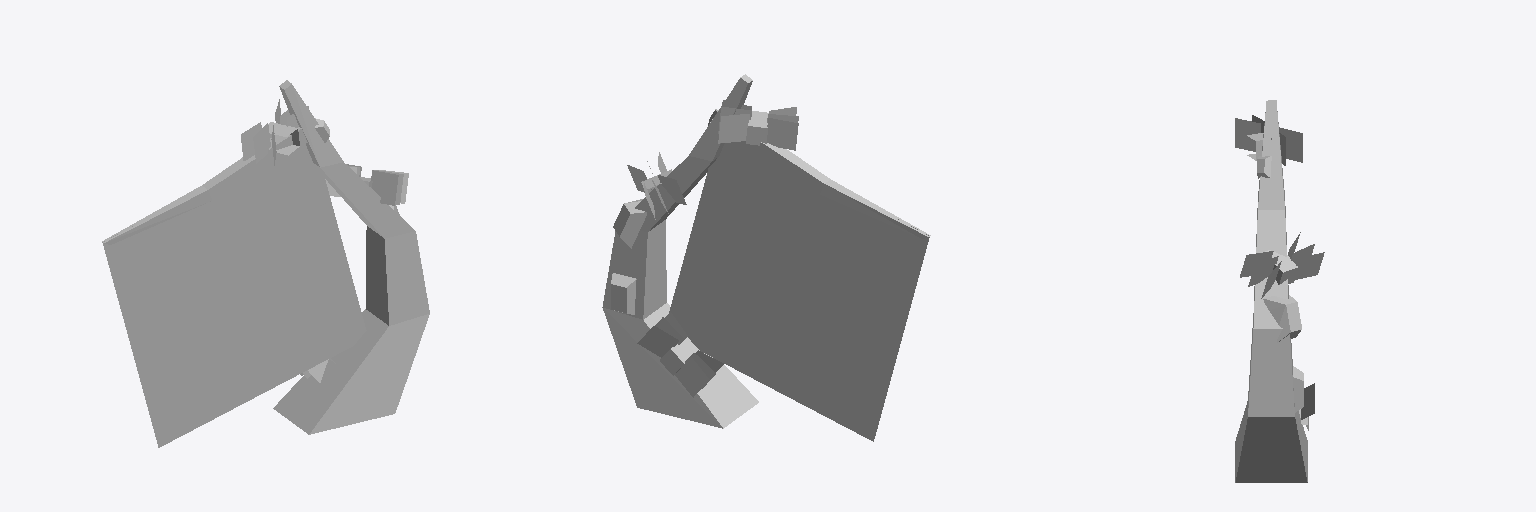
Rendered from ulej_001.obj.
The picture shows the model from 3 angles: view 1: azimuth 30°, elevation 25°; view 2: azimuth 150°, elevation 25°; view 3: azimuth 270°, elevation 25°; orthographic projection.
Visible parts, largest first — view 1: Улей.001; view 2: Улей.001; view 3: Улей.001.
Boxes of the visible parts, <box> form: Улей.001: <box>102,80,429,447</box>; Улей.001: <box>602,74,930,441</box>; Улей.001: <box>1235,100,1324,482</box>.
Bounding box in the file's own units: 1.85 × 1.9 × 0.4541.